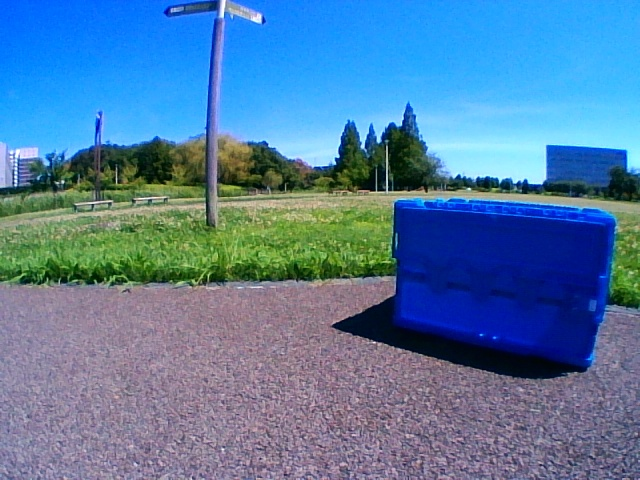blue_box: (394, 199, 616, 370)
